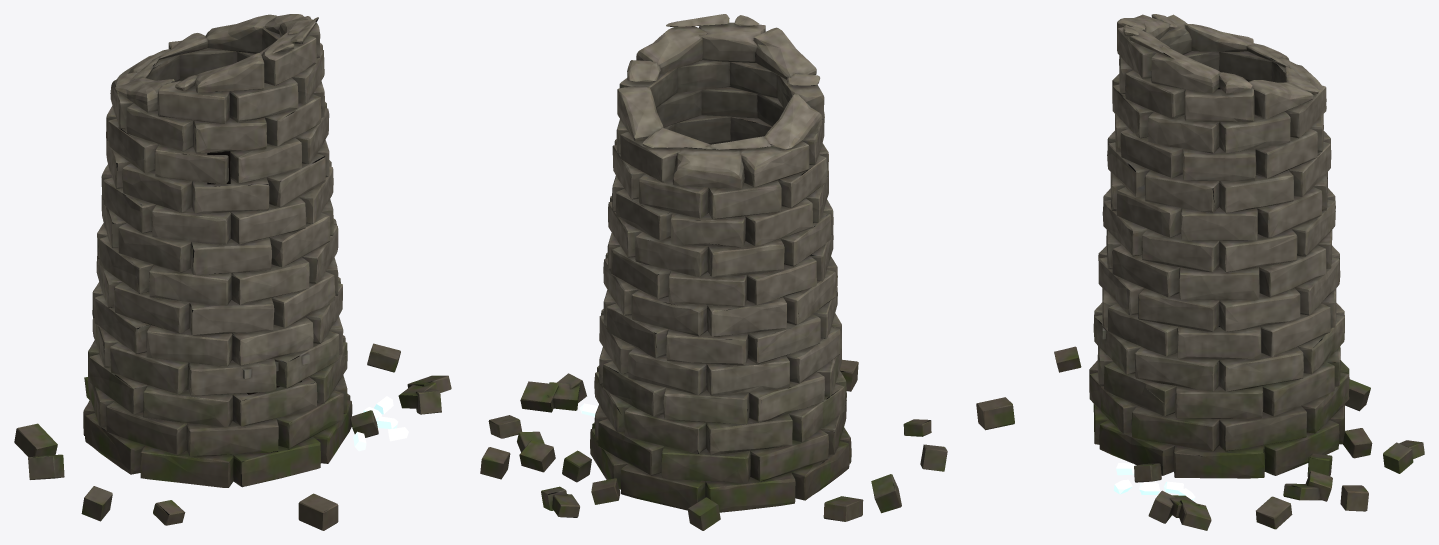
File: costa_farol_quebrado.glb
3 views of the same model, side by side, from view 1: azimuth 30°, elevation 25°; view 2: azimuth 150°, elevation 25°; view 3: azimuth 270°, elevation 25° (orthographic). The views are drawn at different scales.
Visible parts, largest first — view 1: costa_farol_quebrado_tronco; view 2: costa_farol_quebrado_tronco; view 3: costa_farol_quebrado_tronco.
Part boxes in pixels (x1,y1,x2,y2): costa_farol_quebrado_tronco: (14, 14, 451, 530); costa_farol_quebrado_tronco: (480, 14, 947, 530); costa_farol_quebrado_tronco: (976, 14, 1424, 530).
Bounding box in the file's own units: 6.73 × 6.8 × 6.61.
Materials: 6 (1 with a texture image).
